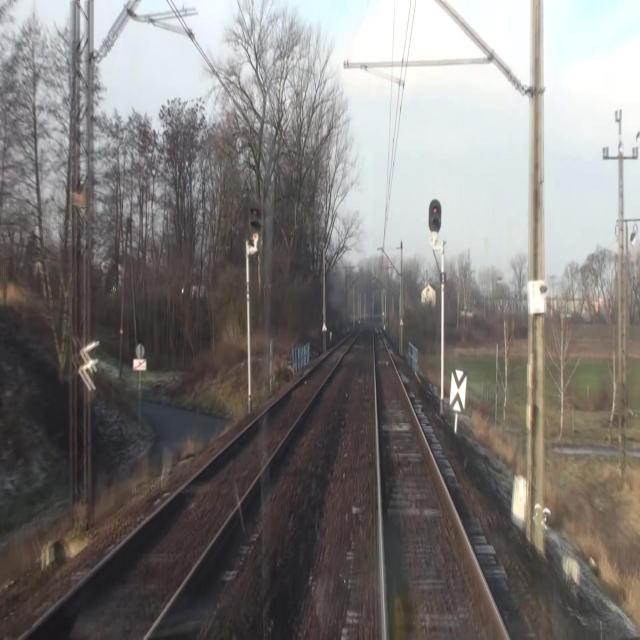rail-track: (25, 329, 359, 639), (374, 323, 505, 639)
